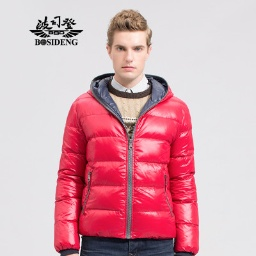face: (104, 11, 155, 79)
